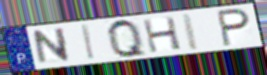H: (140, 15, 184, 55)
I: (180, 12, 202, 52), (81, 23, 97, 62)
N: (31, 26, 73, 67)
P: (216, 7, 252, 48)
Q: (105, 17, 150, 59)
